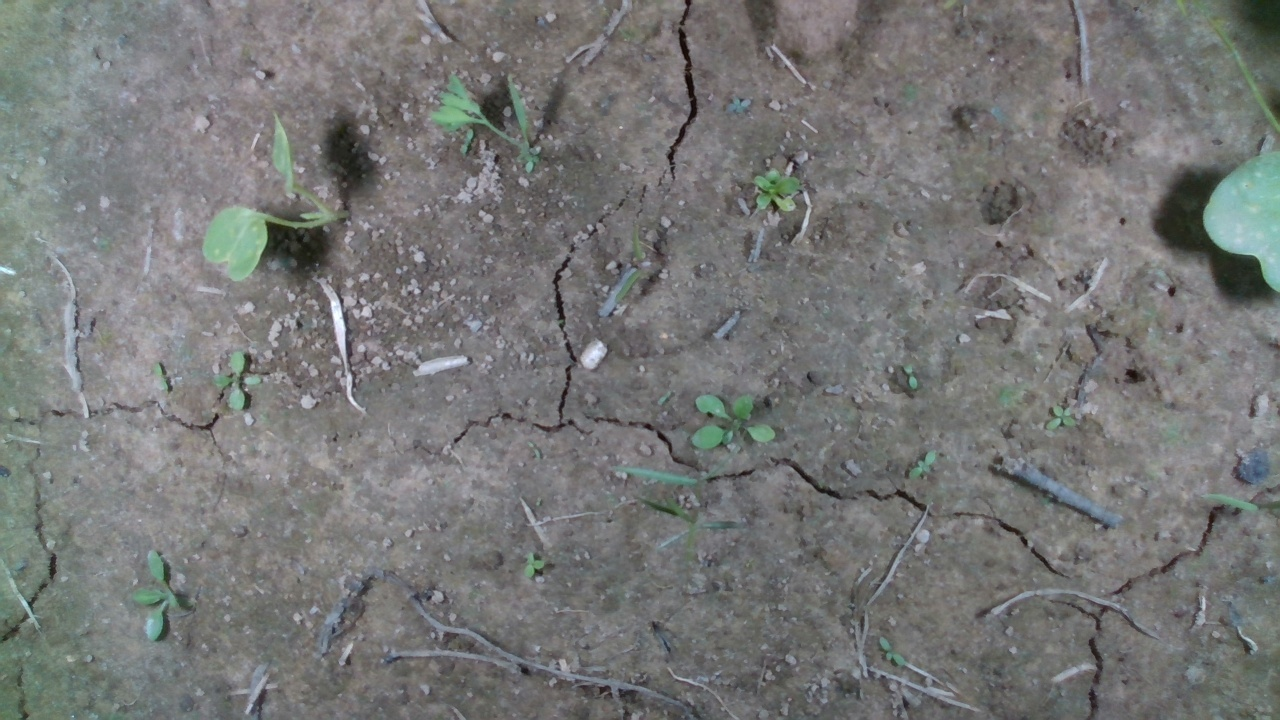weed: (691, 391, 775, 450), (130, 546, 168, 646), (209, 350, 266, 413), (753, 167, 799, 213), (904, 450, 938, 483), (1045, 404, 1076, 431), (722, 91, 752, 118), (523, 549, 546, 579), (154, 362, 171, 395), (900, 362, 919, 391)
